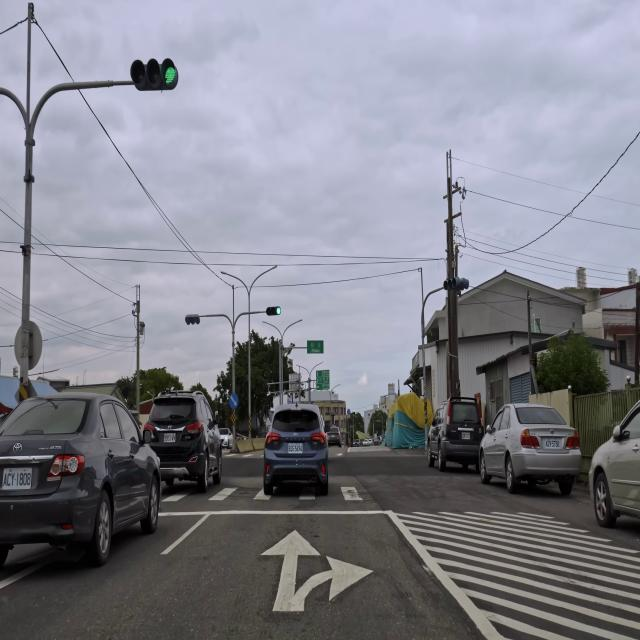green light: (130, 58, 179, 92), (266, 306, 282, 316)
